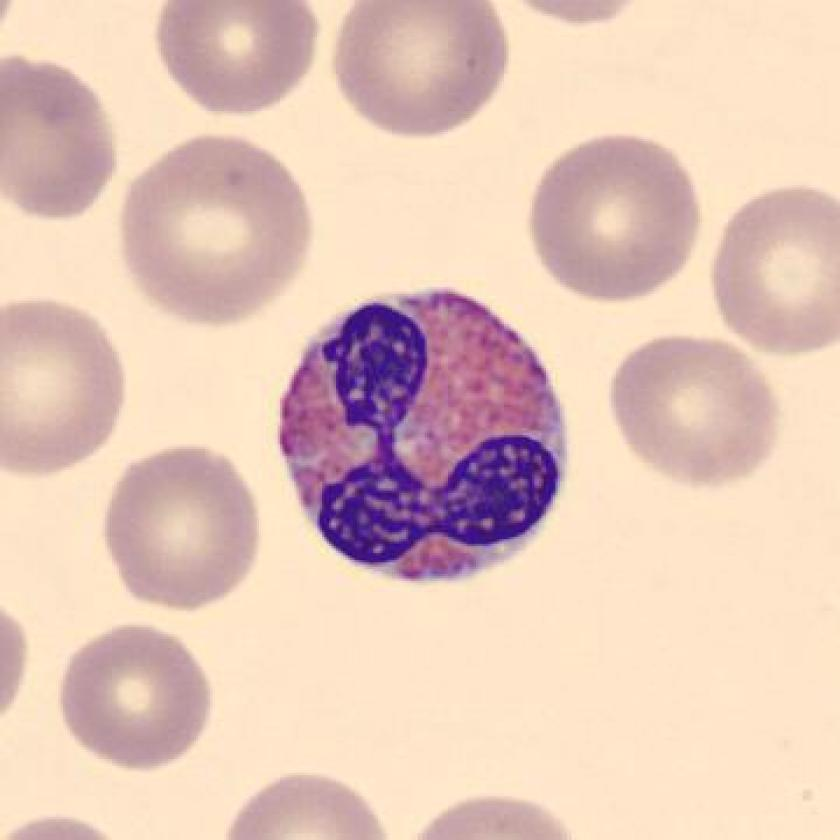eosinophil: (262, 274, 582, 603)
